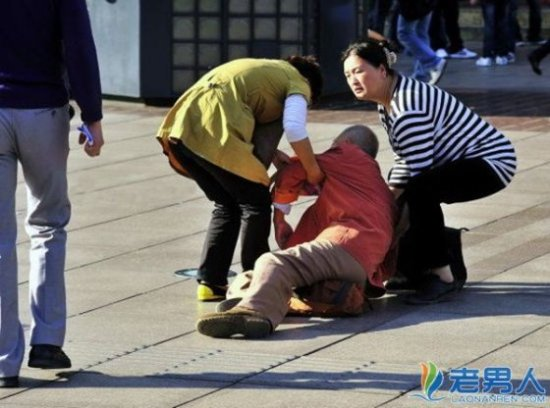fall: (190, 117, 403, 340)
